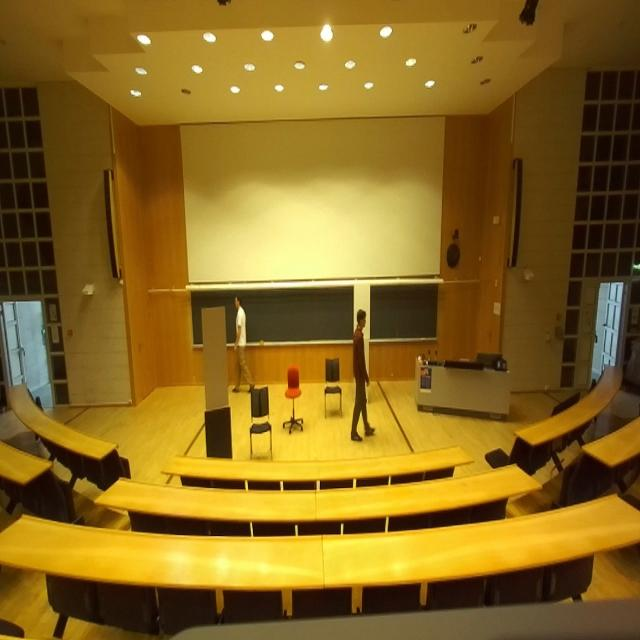person: (351, 309, 375, 441), (232, 295, 254, 393)
